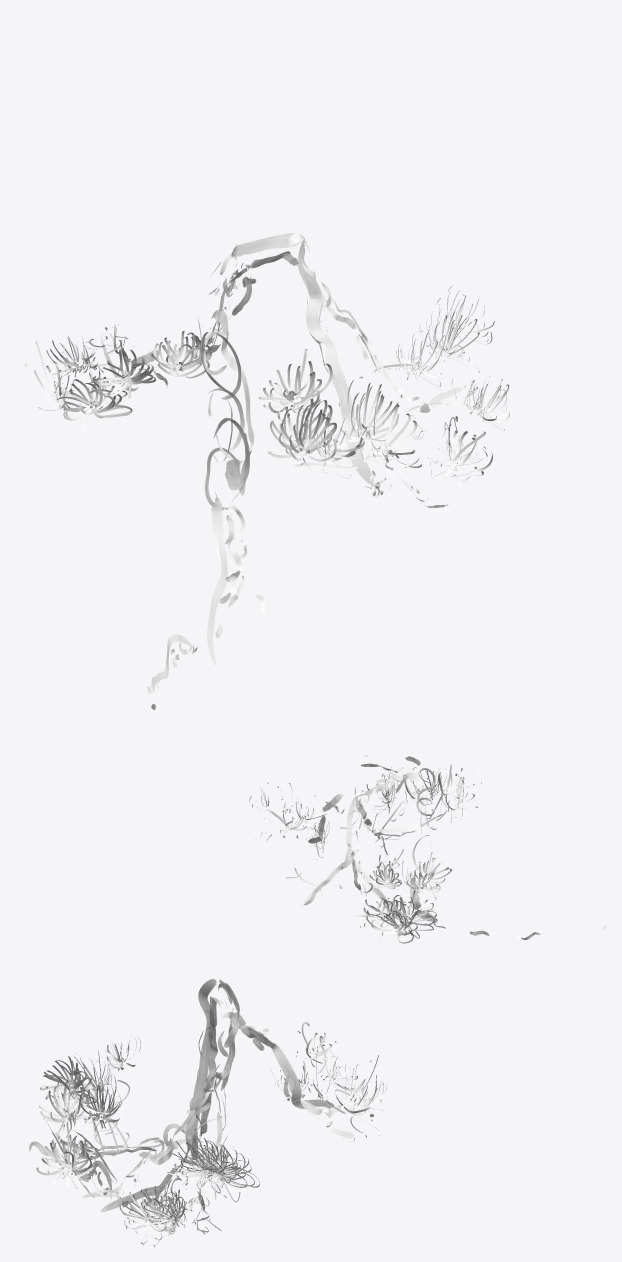
The model's file is ywxxxxx.gltf.
The picture shows the model from 3 angles, top to bottom: view 1: azimuth 30°, elevation 25°; view 2: azimuth 150°, elevation 25°; view 3: azimuth 270°, elevation 25°; orthographic projection. The views are drawn at different scales.
Visible parts, largest first — view 1: group_1-2d35bcf0e4d8452c97b13311be063130_brush_Flat, group_1-b67c0e81ce6d40a8aeb0ef036b081aa3_brush_WetPaint; view 2: group_1-b67c0e81ce6d40a8aeb0ef036b081aa3_brush_WetPaint, group_1-2d35bcf0e4d8452c97b13311be063130_brush_Flat; view 3: group_1-b67c0e81ce6d40a8aeb0ef036b081aa3_brush_WetPaint, group_1-2d35bcf0e4d8452c97b13311be063130_brush_Flat.
Part boxes in pixels (x1,y1,x2,y2): group_1-2d35bcf0e4d8452c97b13311be063130_brush_Flat: (23, 285, 509, 482); group_1-b67c0e81ce6d40a8aeb0ef036b081aa3_brush_WetPaint: (59, 233, 482, 709); group_1-b67c0e81ce6d40a8aeb0ef036b081aa3_brush_WetPaint: (255, 755, 606, 939); group_1-2d35bcf0e4d8452c97b13311be063130_brush_Flat: (249, 764, 481, 943); group_1-b67c0e81ce6d40a8aeb0ef036b081aa3_brush_WetPaint: (29, 979, 379, 1245); group_1-2d35bcf0e4d8452c97b13311be063130_brush_Flat: (36, 1022, 386, 1247).
Size of the model in its own units: 25.31 by 12.53 by 24.41.
Materials: 3 (1 with a texture image).
